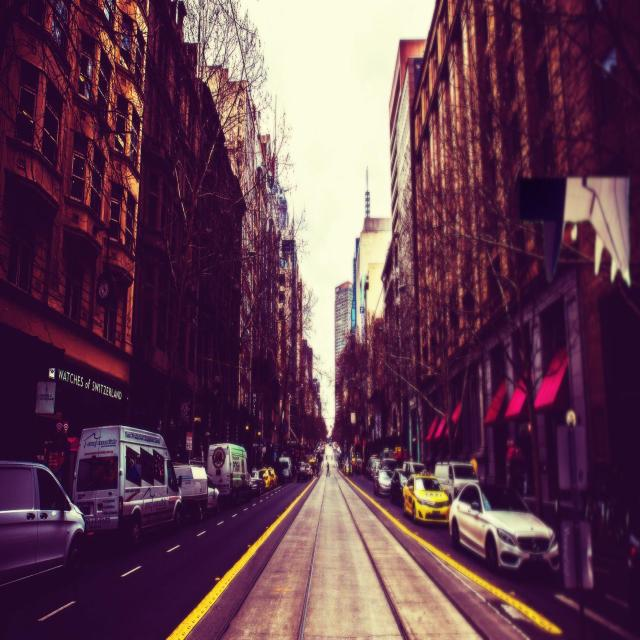airplane: (516, 175, 630, 288)
